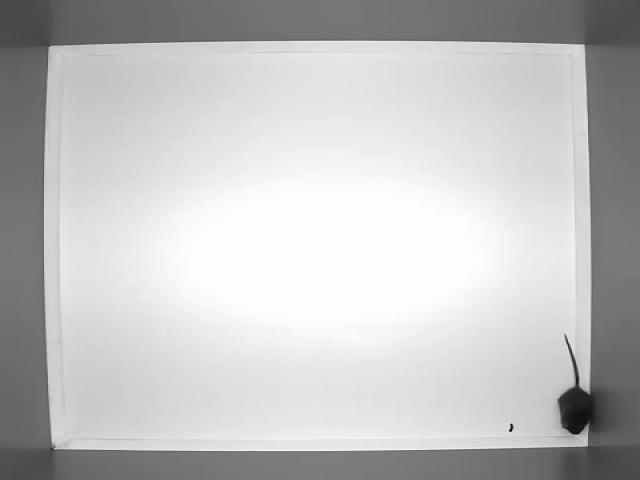Tikus: (559, 336, 597, 435)
